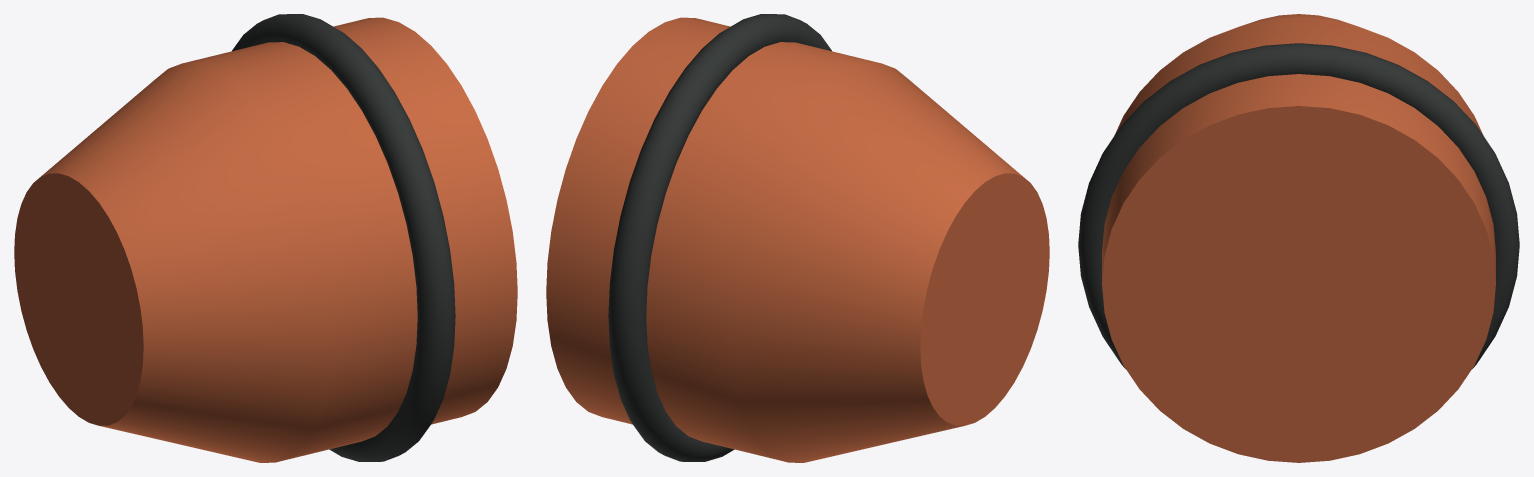
The model's file is drywall_screwdriver_depth_nose.glb.
The picture shows the model from 3 angles, left to right: view 1: azimuth 30°, elevation 25°; view 2: azimuth 150°, elevation 25°; view 3: azimuth 270°, elevation 25°; orthographic projection. The views are drawn at different scales.
Parts seen in each view (by area): view 1: drywall_screwdriver_depth_nose; view 2: drywall_screwdriver_depth_nose; view 3: drywall_screwdriver_depth_nose.
Boxes of the visible parts, x1,y1,x2,y2 form: drywall_screwdriver_depth_nose: [14, 14, 517, 462]; drywall_screwdriver_depth_nose: [546, 14, 1049, 462]; drywall_screwdriver_depth_nose: [1078, 14, 1519, 462].
Bounding box in the file's own units: 0.036 × 0.0426 × 0.0426.
